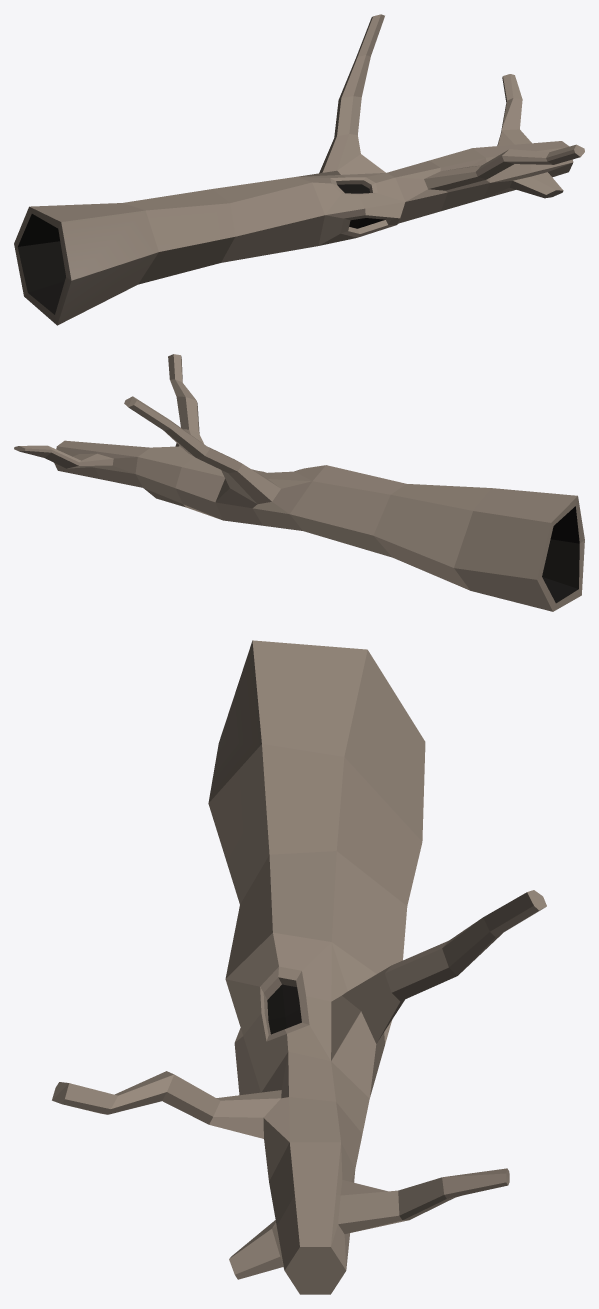
File: ArvoreCaidaSemLOD.fbx
The picture shows the model from 3 angles, top to bottom: view 1: azimuth 30°, elevation 25°; view 2: azimuth 150°, elevation 25°; view 3: azimuth 270°, elevation 25°; orthographic projection. The views are drawn at different scales.
Parts seen in each view (by area): view 1: Arvore04; view 2: Arvore04; view 3: Arvore04.
Boxes of the visible parts, bbox=[...] form: Arvore04: bbox=[14, 14, 584, 325]; Arvore04: bbox=[14, 354, 584, 611]; Arvore04: bbox=[52, 640, 546, 1294].
Bounding box in the file's own units: 593 × 175 × 251.
